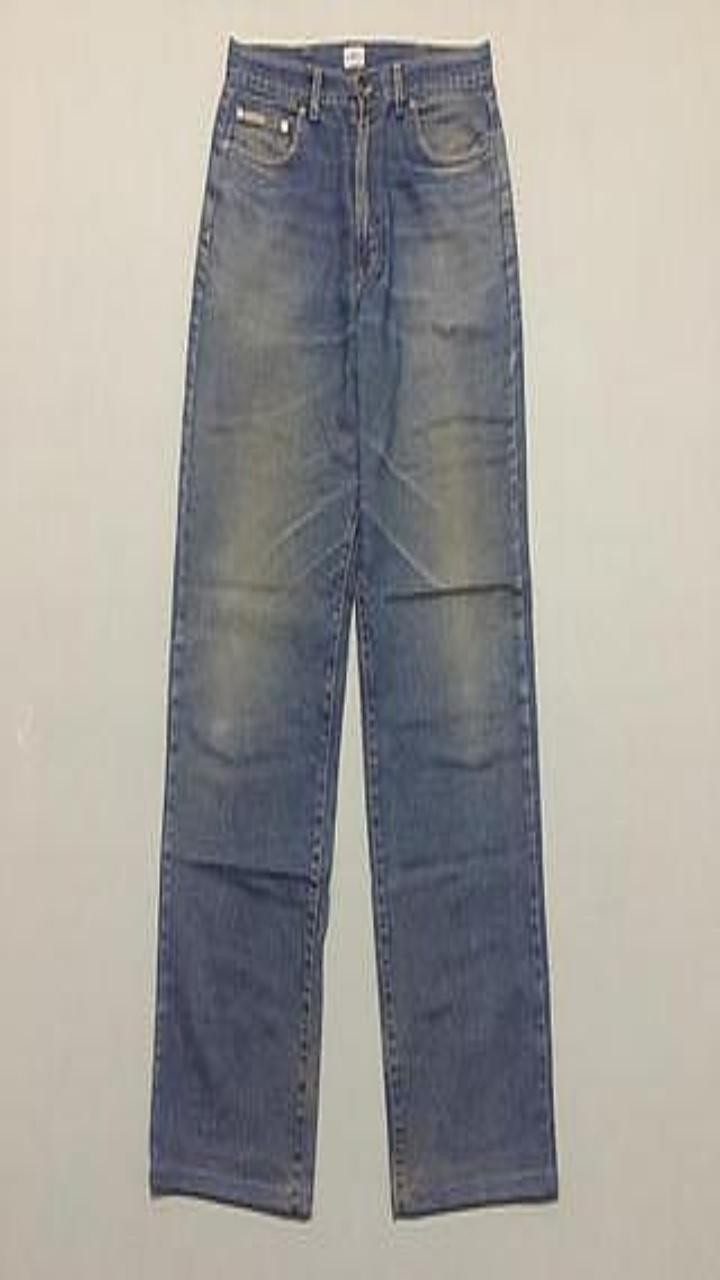Jeans: (150, 36, 557, 1218)
